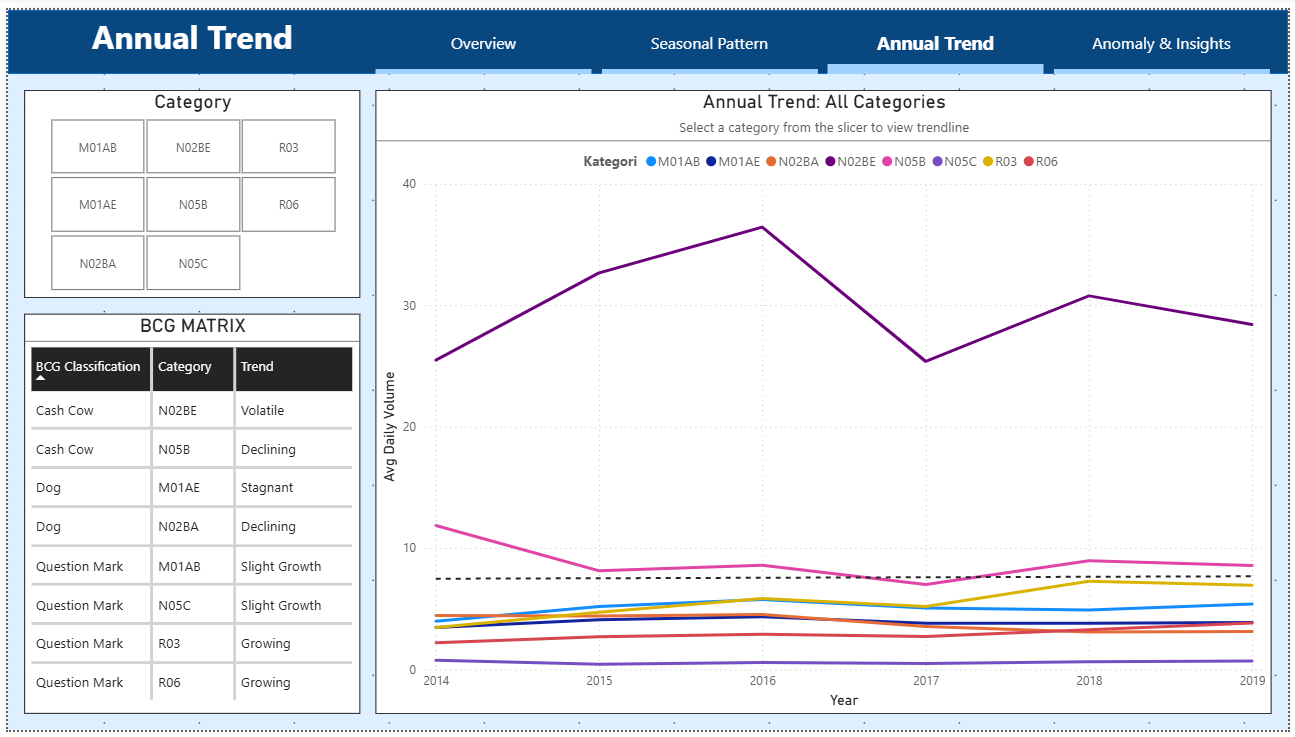

The dashboard page shown, as its layout file describes it:
{"tool":"powerbi","page":{"name":"Annual Trend","canvas":[1280,720],"ordinal":2},"visuals":[{"type":"shape","box":[0,0,1280,64],"z":0},{"type":"textbox","box":[16,0,336,64],"z":1000},{"type":"lineChart","fields":{"Category":["salesdaily.datum.Variation.Date Hierarchy.Year"],"Y":["salesdaily.Avg Daily Volume"],"Series":["salesdaily.Kategori"]},"box":[368,80,896,624],"z":2000},{"type":"slicer","title":"Category","fields":{"Values":["salesdaily.Kategori"]},"box":[16,80,336,208],"z":3000},{"type":"tableEx","title":"BCG MATRIX","fields":{"Values":["BCG Matrix.BCG Classification","BCG Matrix.Category","BCG Matrix.Trend"]},"box":[16,304,336,400],"z":4000},{"type":"pageNavigator","box":[368,0,896,64],"z":4001}]}

Visuals, with their boxes in screenshot pixels (x1, y1, x2, y2), scaled from the page's 1280x720 canvas onto the 1295x737 screenshot:
shape: x1=0 y1=0 x2=1294 y2=66
textbox: x1=16 y1=0 x2=356 y2=66
lineChart - salesdaily.datum.Variation.Date Hierarchy.Year x salesdaily.Avg Daily Volume: x1=372 y1=82 x2=1279 y2=721
"Category" slicer: x1=16 y1=82 x2=356 y2=295
"BCG MATRIX" tableEx: x1=16 y1=311 x2=356 y2=721
pageNavigator: x1=372 y1=0 x2=1279 y2=66
